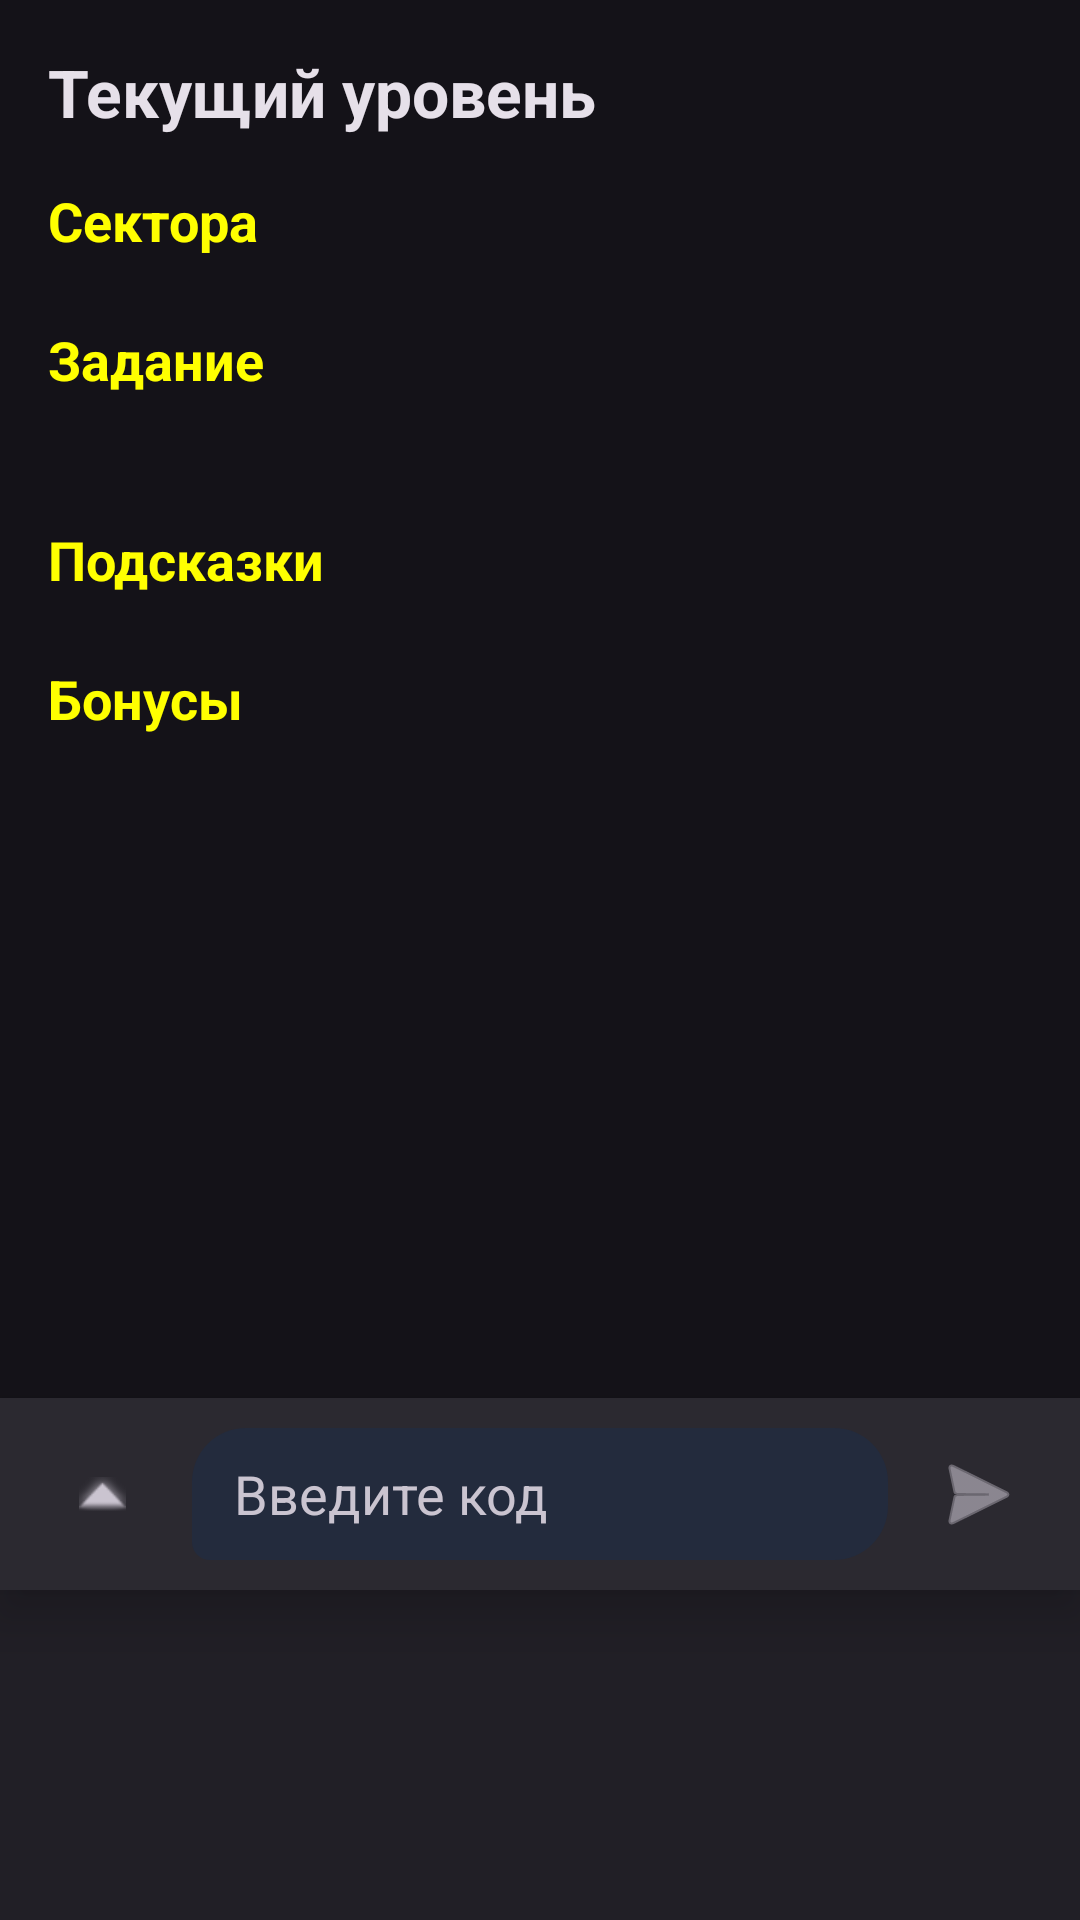

Icon click points for this 1080x1920 phone screenshot, format [x,y]:
Отправить: [978,1494]
Развернуть MixedActions: [102,1494]
